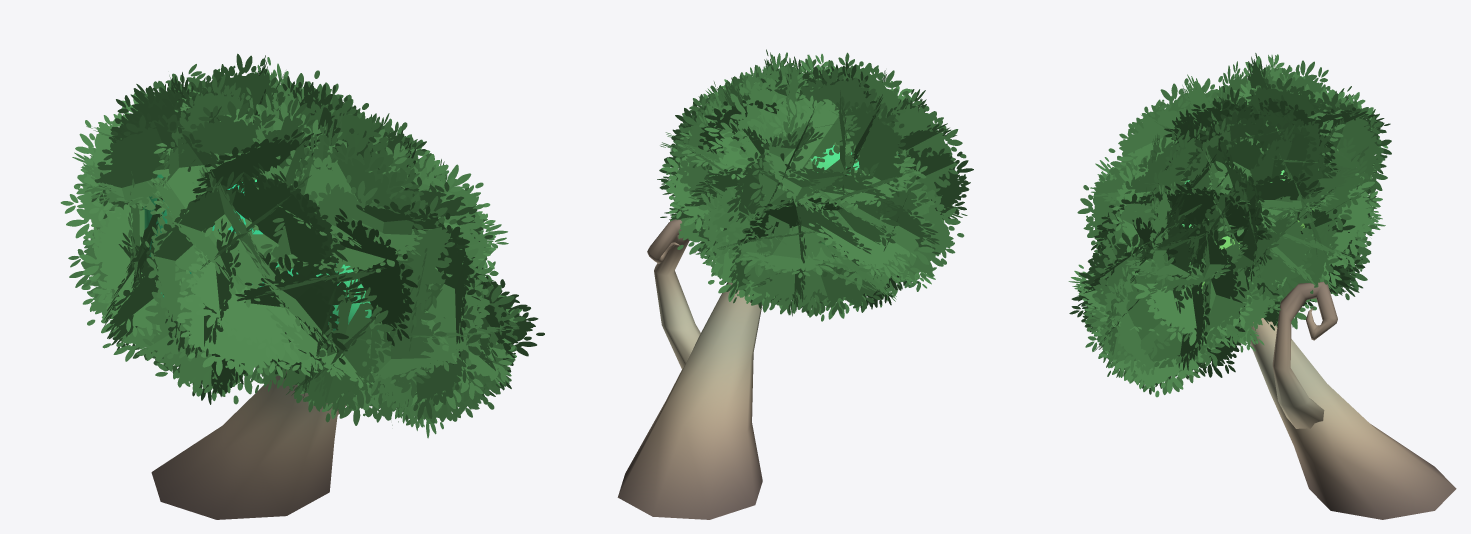
File: Tree4.fbx
3 views of the same model, side by side, from view 1: azimuth 30°, elevation 25°; view 2: azimuth 150°, elevation 25°; view 3: azimuth 270°, elevation 25° (orthographic). The views are drawn at different scales.
Visible parts, largest first — view 1: Cylinder; view 2: Cylinder; view 3: Cylinder.
Boxes of the visible parts, box(x1,y1,x2,y2) form: Cylinder: box(60, 53, 544, 519); Cylinder: box(617, 49, 973, 519); Cylinder: box(1068, 53, 1456, 519).
Bounding box in the file's own units: 576 × 632 × 577.
